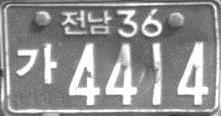1: (149, 40, 163, 107)
3: (116, 7, 137, 37)
4: (103, 42, 139, 106), (67, 41, 101, 108), (174, 41, 209, 105)
6: (141, 8, 162, 38)
가: (14, 41, 57, 85)
전남_O: (59, 9, 113, 35)
